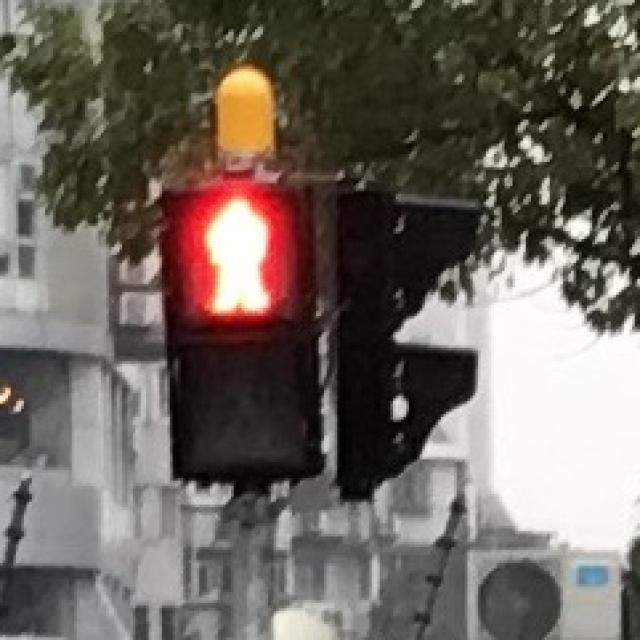red_light: (165, 188, 305, 322)
